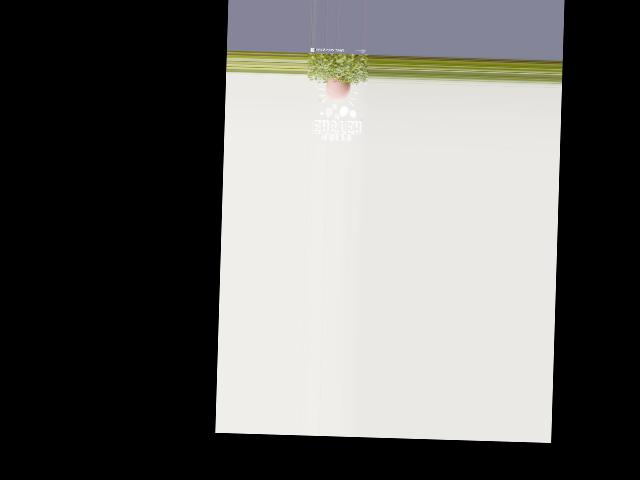egg: (326, 77, 351, 102)
